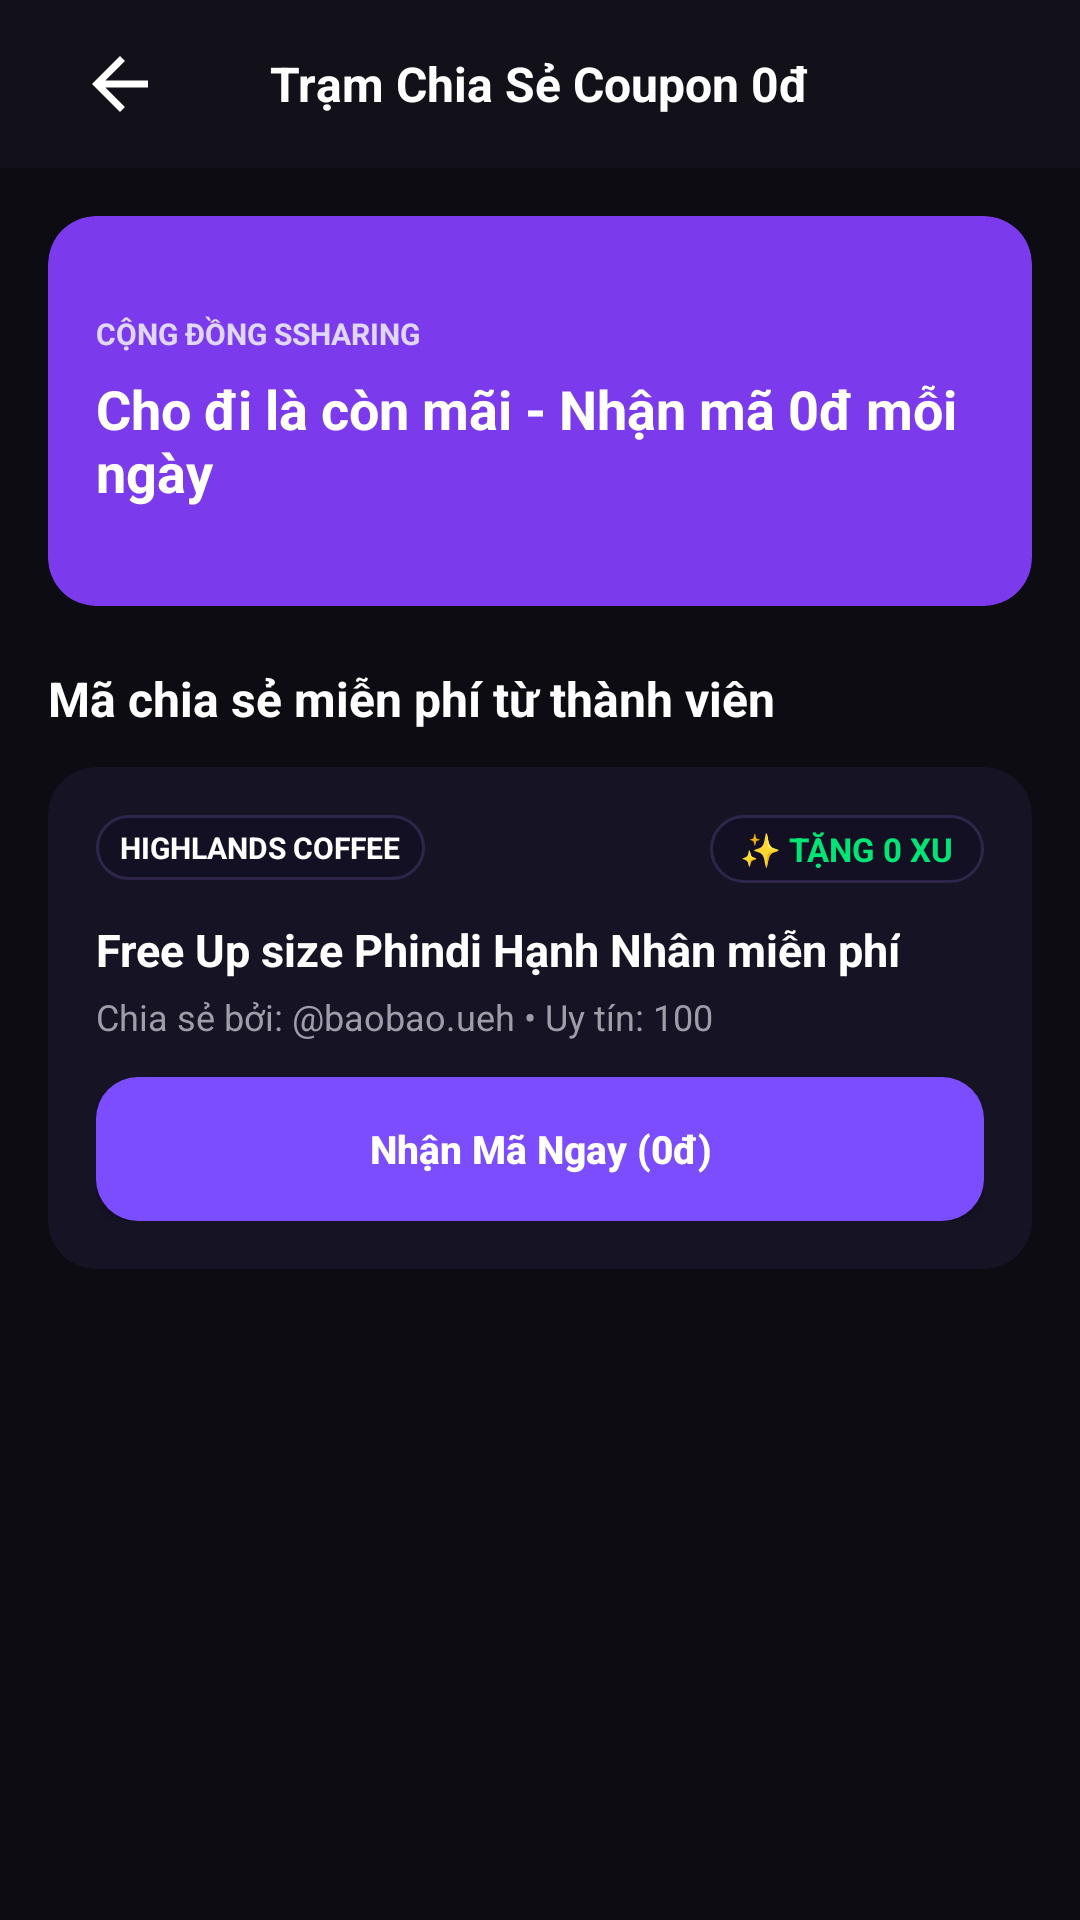

Named icons in this screenshot (1080px x 1920px) and their bounding boxes, {"x1": x1, "y1": y1, "x2": x2, "y2": y2}:
Quay lại: {"x1": 92, "y1": 56, "x2": 148, "y2": 112}
